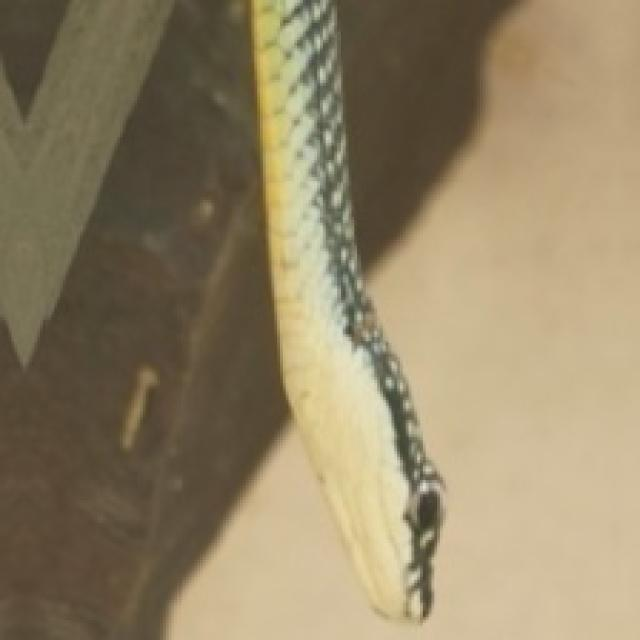paradise tree snake: (0, 0, 283, 637), (251, 0, 440, 617), (283, 269, 411, 611)
